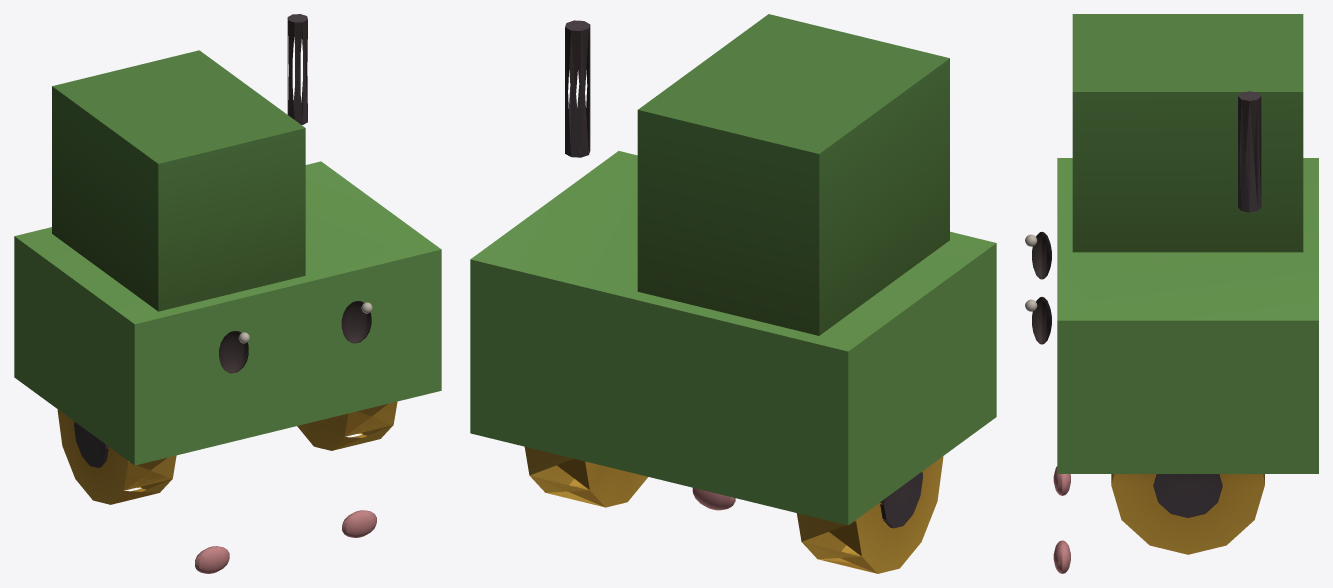
File: paaf20edf.glb
The picture shows the model from 3 angles, left to right: view 1: azimuth 30°, elevation 25°; view 2: azimuth 150°, elevation 25°; view 3: azimuth 270°, elevation 25°; orthographic projection. The views are drawn at different scales.
Visible parts, largest first — view 1: pet_paaf20edf; view 2: pet_paaf20edf; view 3: pet_paaf20edf.
Part boxes in pixels (x1,y1,x2,y2): pet_paaf20edf: (14,14,441,573); pet_paaf20edf: (470,14,996,573); pet_paaf20edf: (1025,14,1318,573).
Bounding box in the file's own units: 0.5 × 0.7002 × 0.3819.
